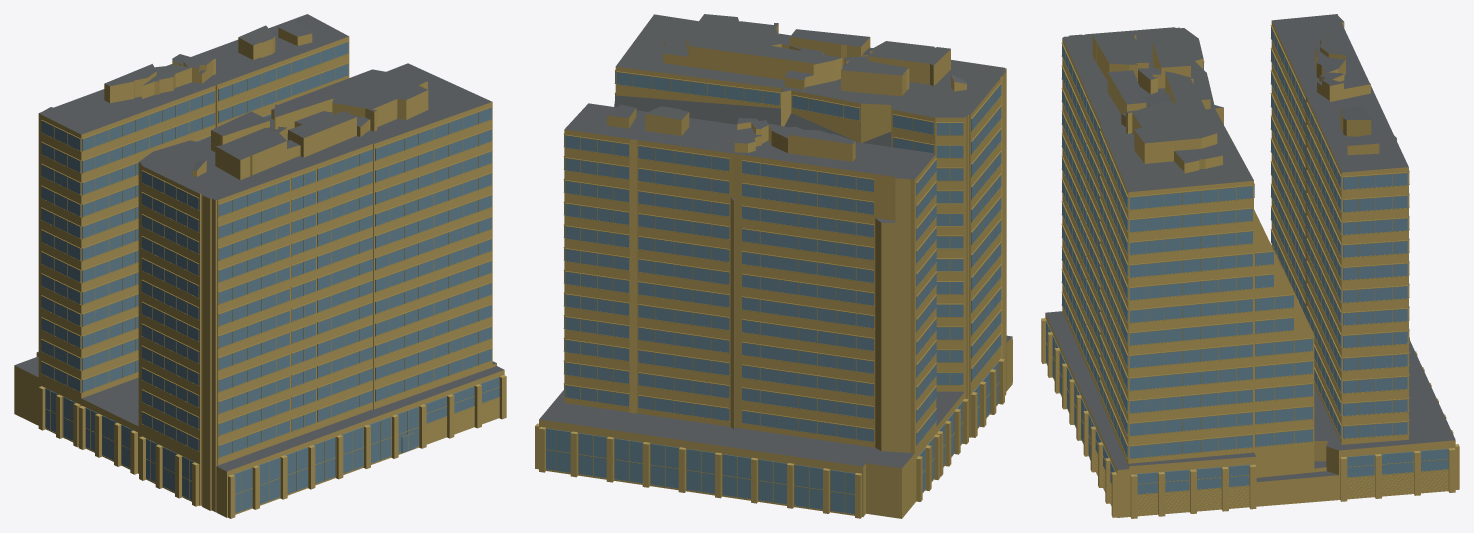
File: motorkade-1.glb
3 views of the same model, side by side, from view 1: azimuth 30°, elevation 25°; view 2: azimuth 150°, elevation 25°; view 3: azimuth 270°, elevation 25° (orthographic). The views are drawn at different scales.
Parts seen in each view (by area): view 1: motorkade-1; view 2: motorkade-1; view 3: motorkade-1.
Part boxes in pixels (x1,y1,x2,y2): motorkade-1: (14, 14, 506, 518); motorkade-1: (535, 14, 1012, 518); motorkade-1: (1041, 14, 1459, 518).
Bounding box in the file's own units: 56.16 × 48.48 × 53.65.
